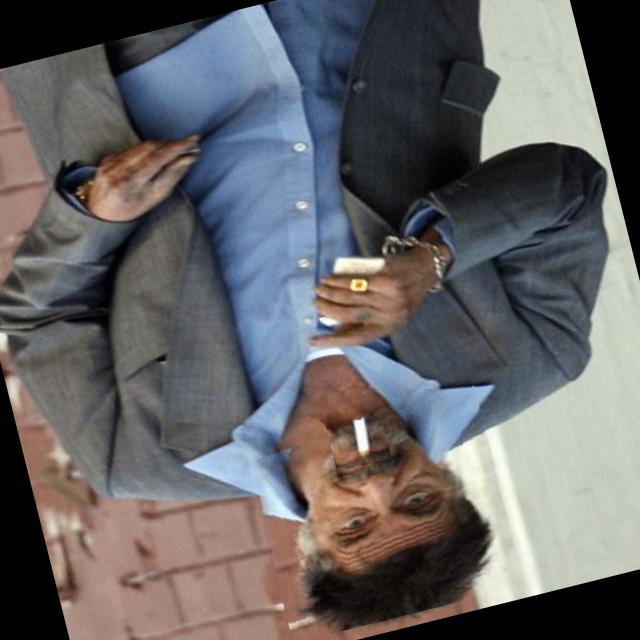cigarette: (319, 385, 392, 472)
